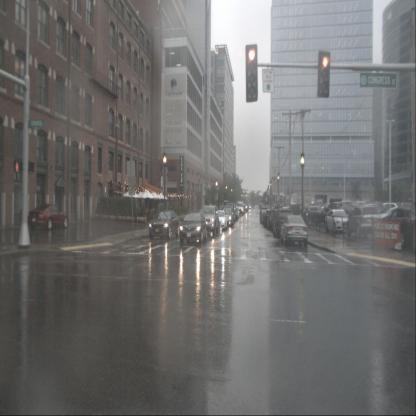vehicle-bus-rigid: (259, 199, 264, 208)
vehicle-car: (381, 206, 415, 249), (346, 206, 380, 239), (28, 204, 68, 230), (148, 210, 180, 240), (179, 211, 208, 243), (280, 214, 308, 246), (198, 205, 220, 238), (273, 210, 294, 238), (325, 209, 348, 233), (305, 206, 328, 225), (266, 210, 283, 230), (223, 202, 236, 224), (214, 210, 227, 231), (222, 208, 233, 227), (264, 210, 275, 228), (260, 206, 268, 223), (235, 203, 244, 217), (232, 206, 240, 219), (242, 203, 248, 211)
